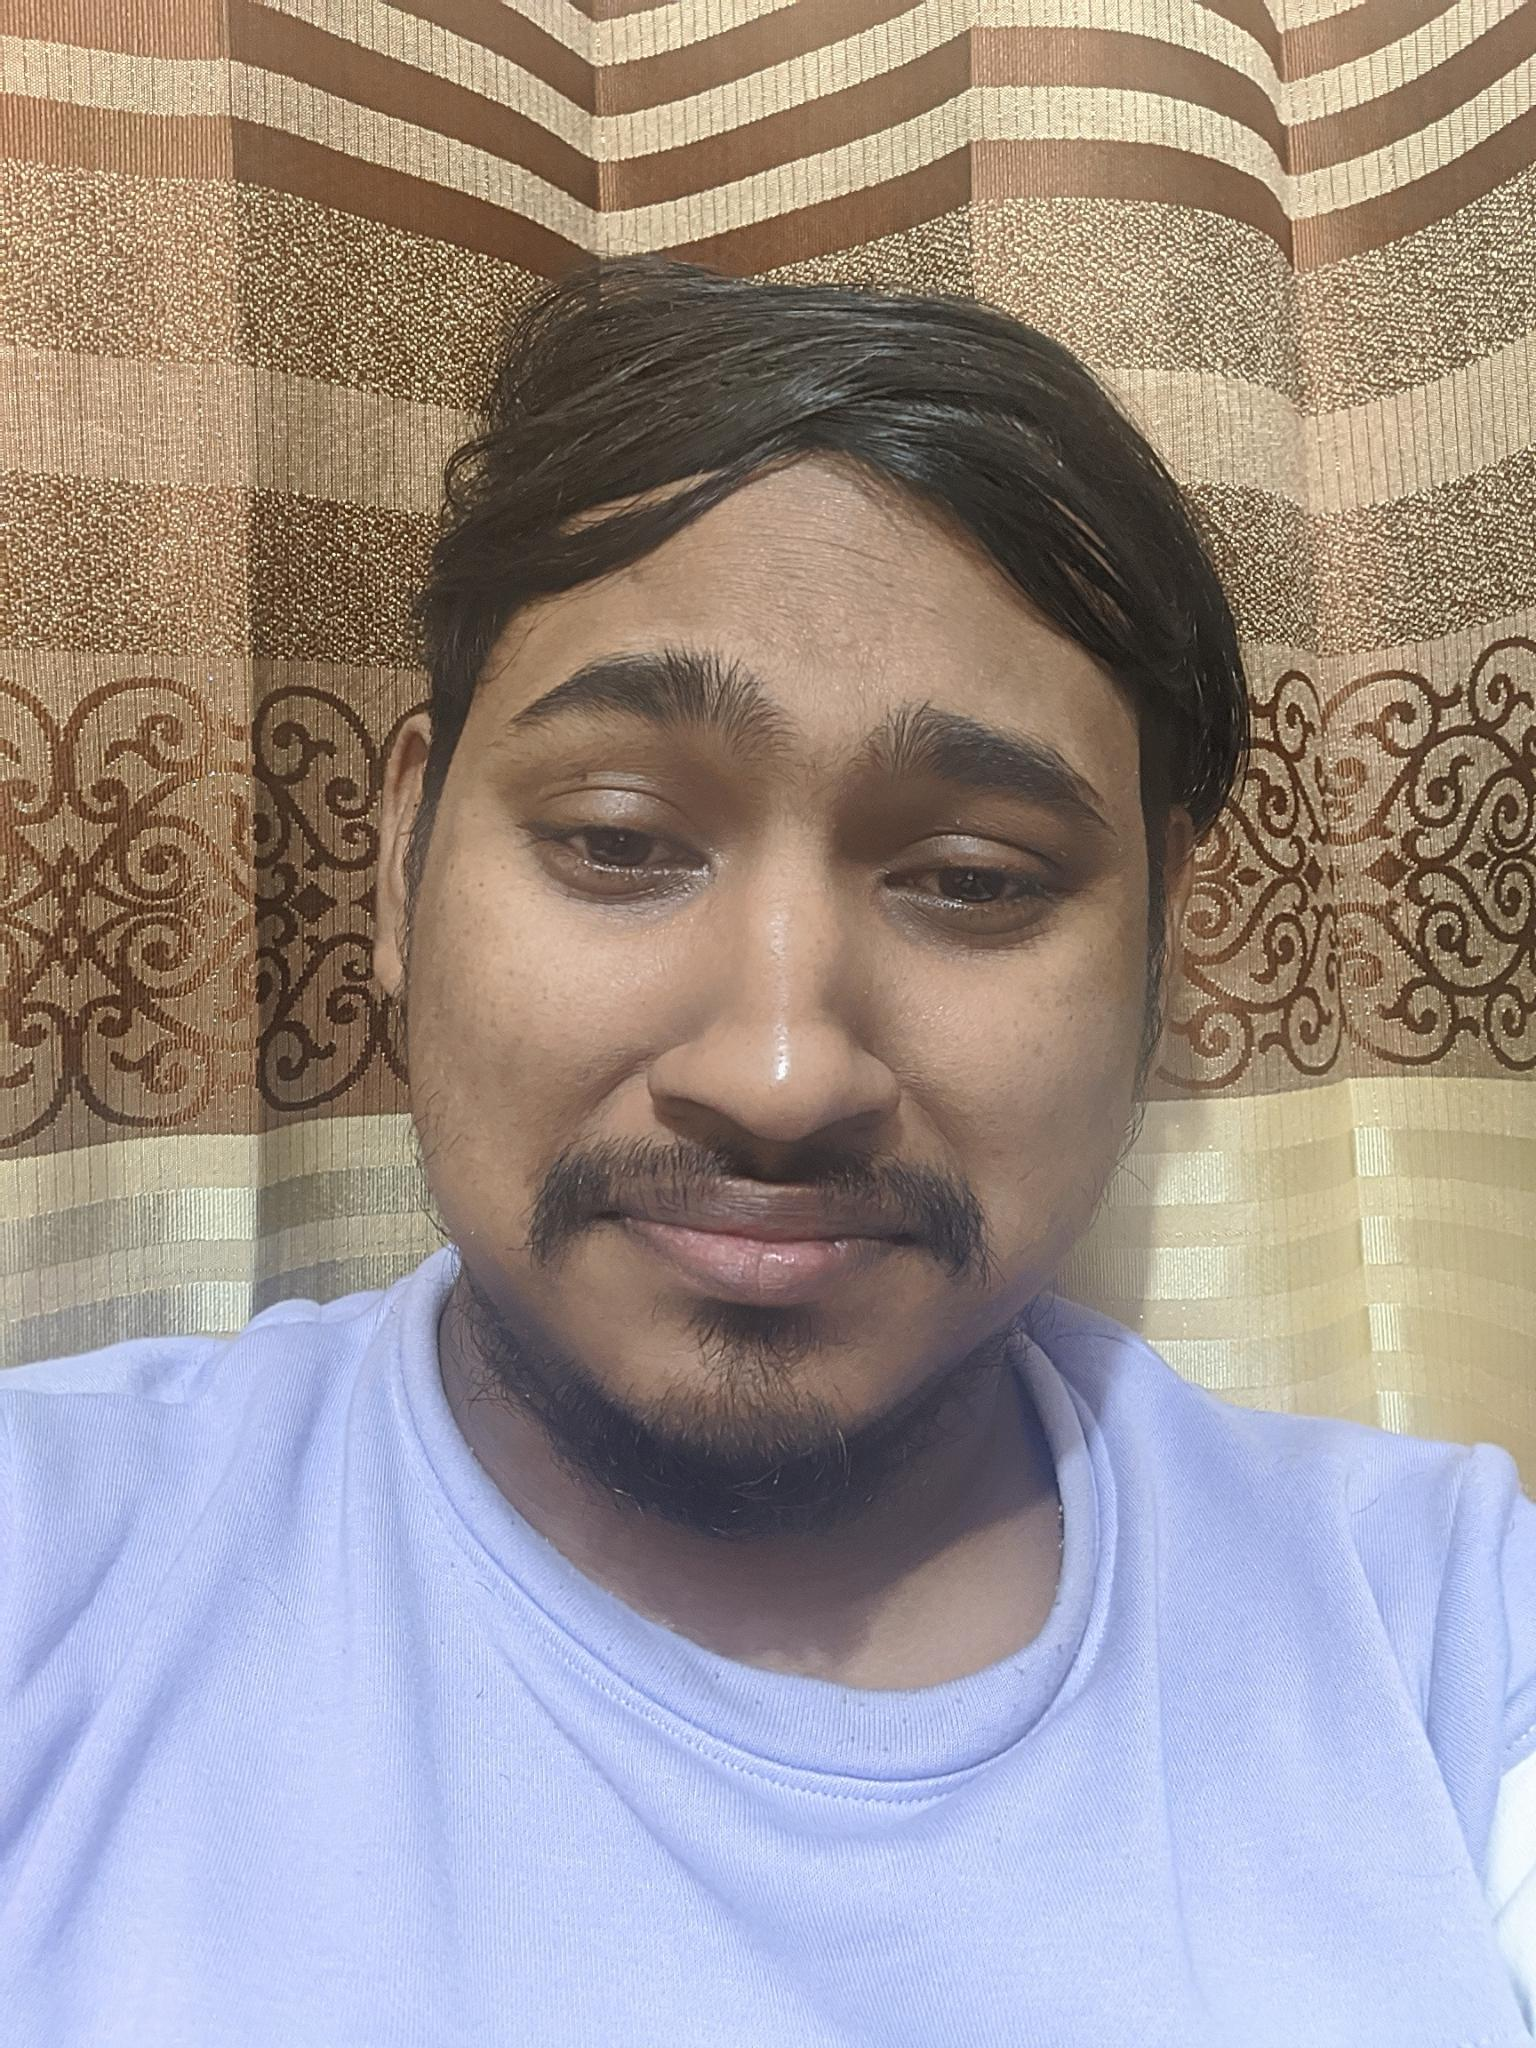Sad: (410, 531, 1149, 1485)
